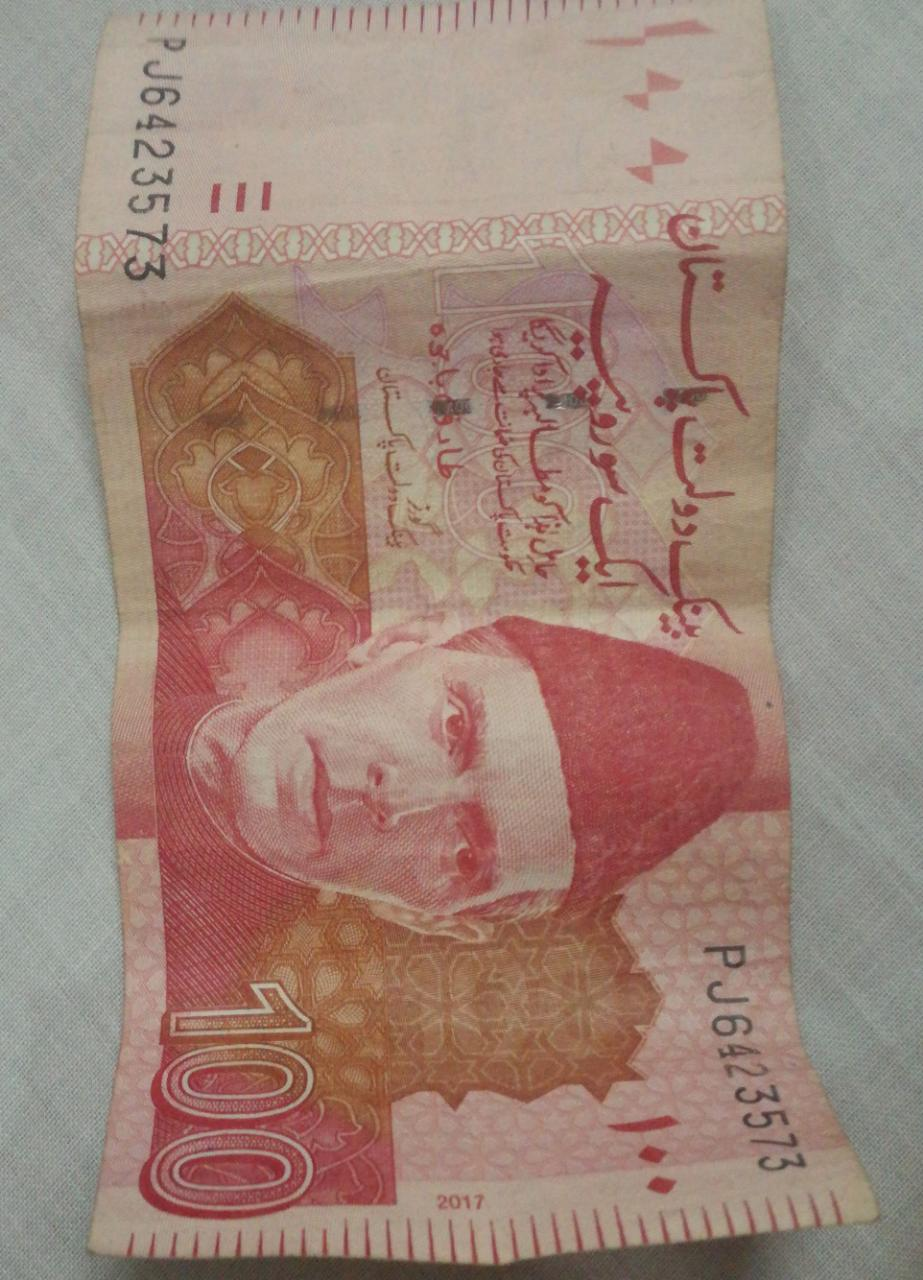100 rupee: (67, 0, 878, 1269)
